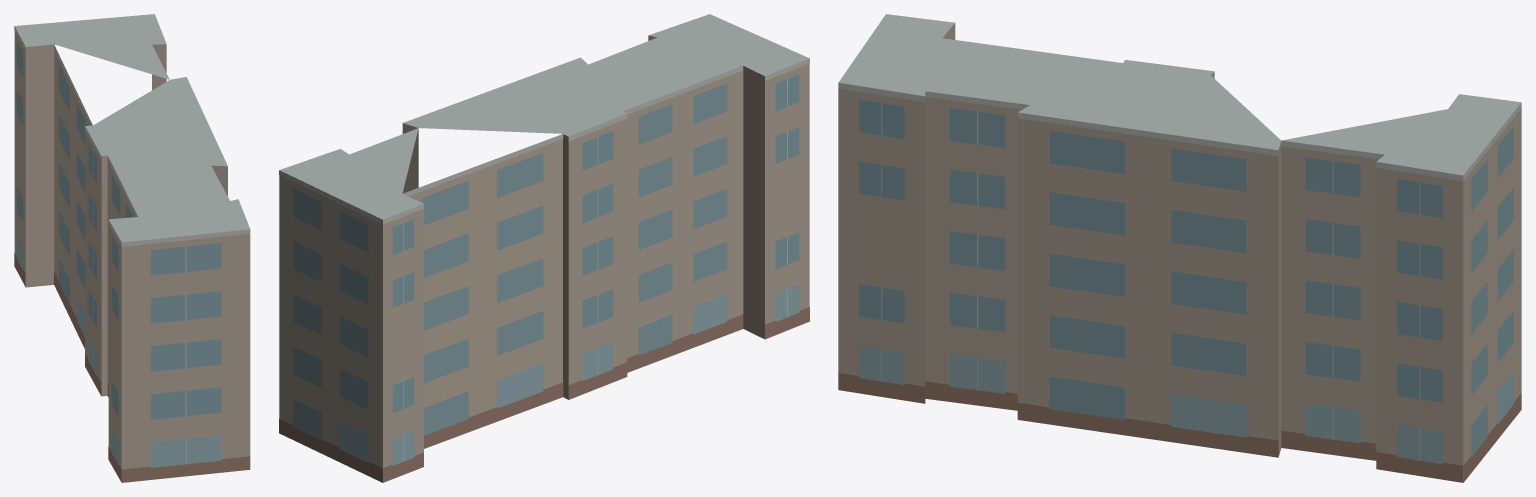
Rendered from survey-upis-32528070.glb.
3 views of the same model, side by side, from view 1: azimuth 30°, elevation 25°; view 2: azimuth 150°, elevation 25°; view 3: azimuth 270°, elevation 25° (orthographic). The views are drawn at different scales.
Visible parts, largest first — view 1: survey-upis-32528070.tmp; view 2: survey-upis-32528070.tmp; view 3: survey-upis-32528070.tmp.
Boxes of the visible parts, x1,y1,x2,y2 form: survey-upis-32528070.tmp: (14,14,250,482); survey-upis-32528070.tmp: (279,14,809,482); survey-upis-32528070.tmp: (838,14,1521,482).
Bounding box in the file's own units: 14.77 × 13.1 × 26.4.
